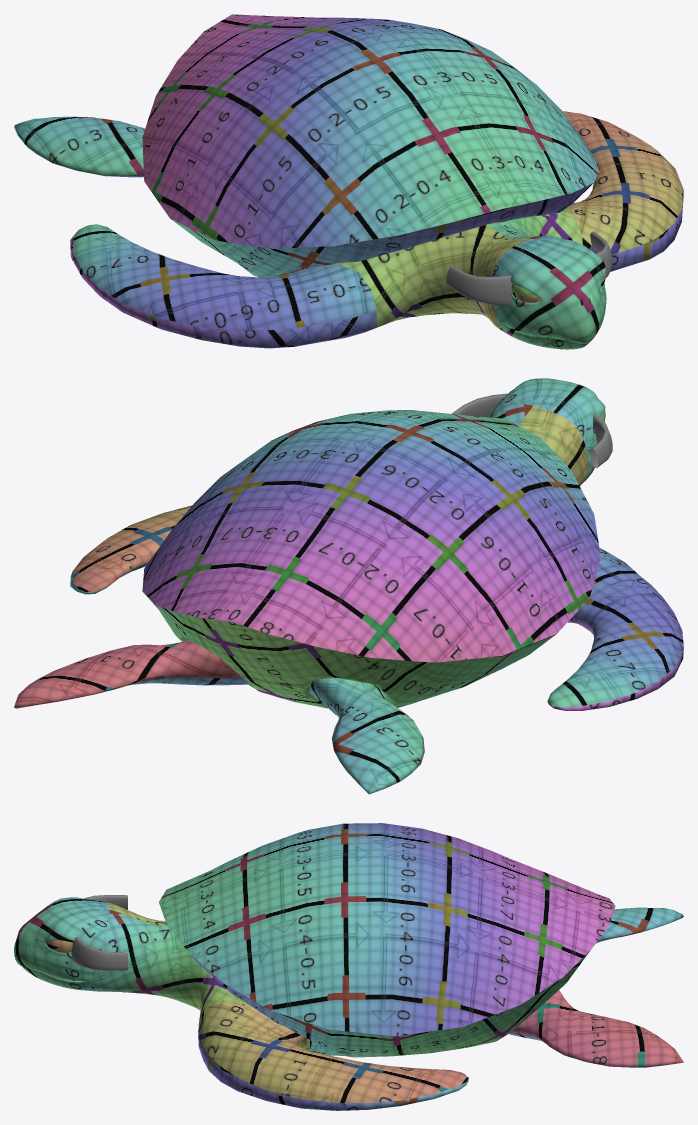
The model's file is Turtle Milestone.obj.
3 views of the same model, one above another, from view 1: azimuth 30°, elevation 25°; view 2: azimuth 150°, elevation 25°; view 3: azimuth 270°, elevation 25° (orthographic). The views are drawn at different scales.
Visible parts, largest first — view 1: r_leg_geo, headband_condense blends_grp deformers sea_turtle; view 2: r_leg_geo, headband_condense blends_grp deformers sea_turtle; view 3: r_leg_geo, headband_condense blends_grp deformers sea_turtle.
Boxes of the visible parts, x1=… form: r_leg_geo: x1=14, y1=14, x2=683, y2=349; headband_condense blends_grp deformers sea_turtle: x1=446, y1=231, x2=612, y2=306; r_leg_geo: x1=14, y1=378, x2=683, y2=794; headband_condense blends_grp deformers sea_turtle: x1=451, y1=393, x2=612, y2=467; r_leg_geo: x1=14, y1=823, x2=683, y2=1110; headband_condense blends_grp deformers sea_turtle: x1=71, y1=895, x2=127, y2=970.
Bounding box in the file's own units: 11.44 × 4.67 × 14.12.
3 materials, 2 textured.
